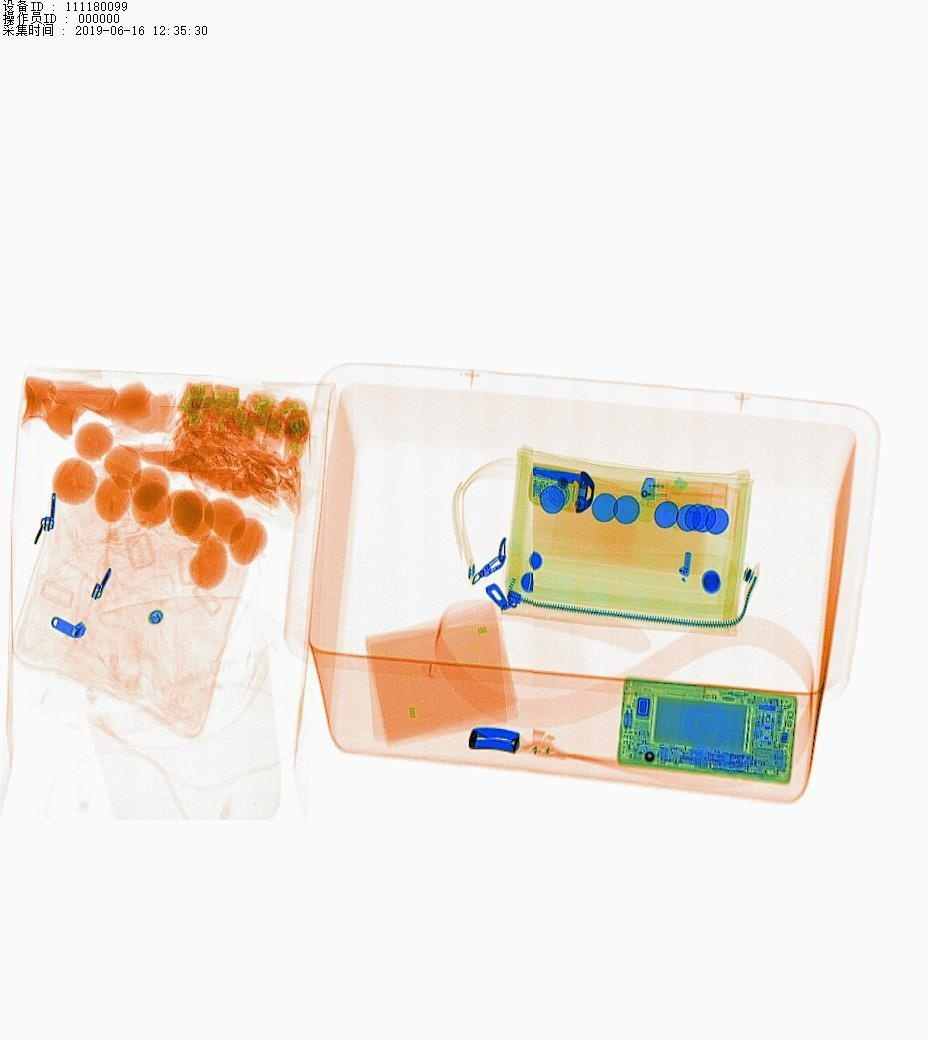NonmetallicFire: (626, 467, 745, 522)
